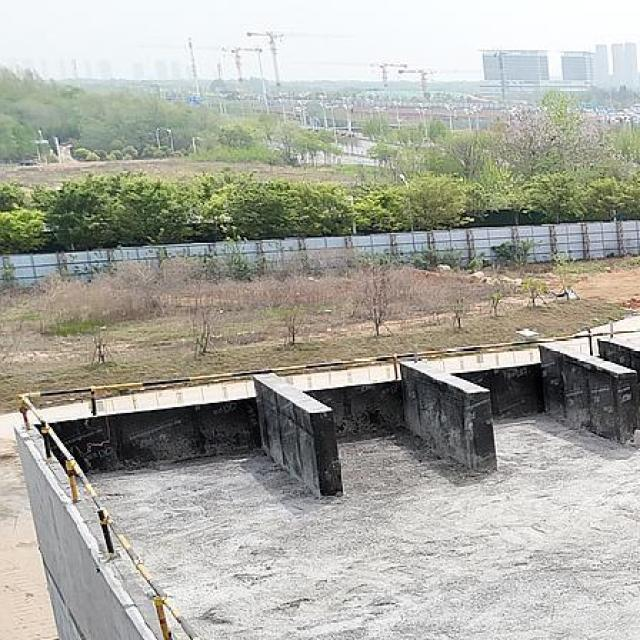edge_guardrail: (17, 324, 640, 640)
